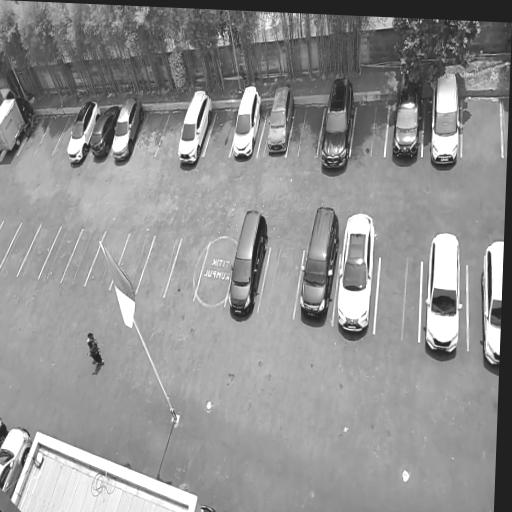Car: (420, 221, 468, 369), (333, 202, 380, 350), (296, 200, 344, 333), (224, 203, 273, 322), (424, 59, 463, 176), (387, 56, 426, 166), (476, 231, 504, 383), (318, 69, 358, 174), (173, 88, 218, 168), (229, 82, 268, 161), (61, 96, 103, 167), (107, 94, 149, 161), (0, 421, 36, 498), (261, 84, 297, 159), (84, 100, 122, 160), (0, 94, 35, 158), (0, 414, 13, 443), (199, 504, 224, 512)
Space Available: (374, 258, 422, 340), (258, 245, 304, 318), (193, 242, 236, 308), (136, 236, 181, 298), (164, 239, 209, 300), (109, 234, 155, 293), (84, 231, 129, 288), (61, 229, 106, 286), (39, 226, 83, 283), (462, 96, 503, 154), (16, 224, 60, 278), (350, 96, 389, 156), (0, 222, 41, 277), (286, 103, 325, 158), (204, 105, 239, 157), (133, 110, 169, 155), (35, 113, 70, 157), (156, 109, 187, 156), (52, 113, 78, 157), (0, 220, 21, 269)
